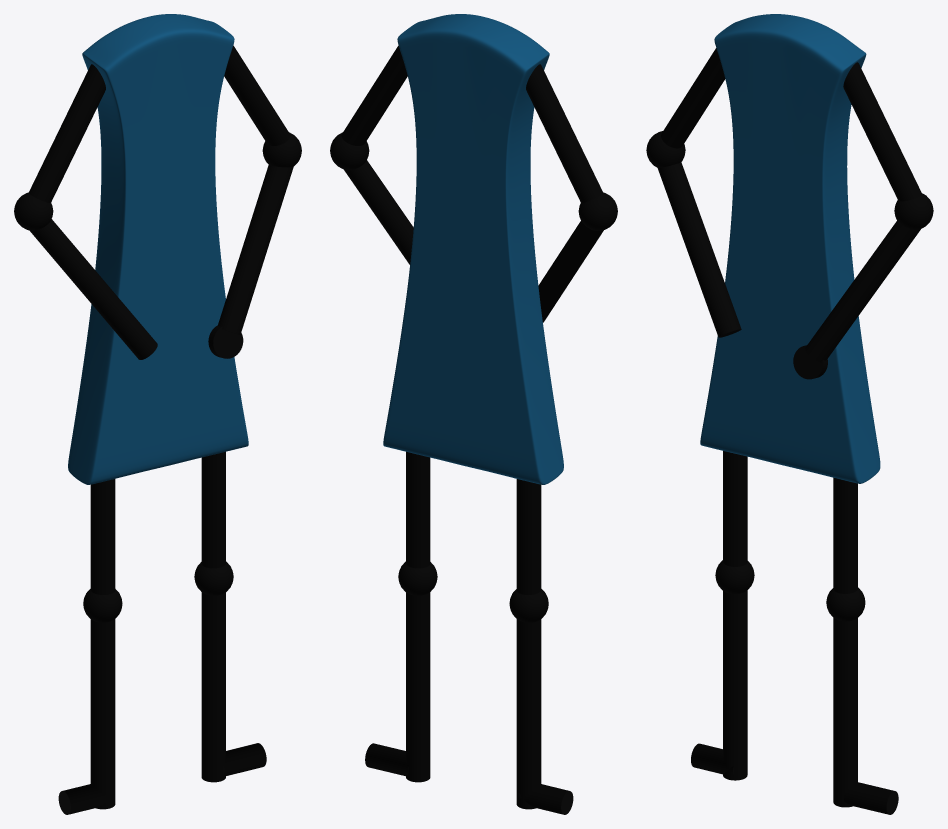
3 views of the same model, side by side, from view 1: azimuth 30°, elevation 25°; view 2: azimuth 150°, elevation 25°; view 3: azimuth 330°, elevation 25° (orthographic).
Parts seen in each view (by area): view 1: MaleBody, leftForeLeg, rightForeLeg, LeftForeArm, RightForeArm, RightUpperArm, rightUpperLeg, LeftUpperLeg, LeftUpperArm, rightUpperArmSphere, rightFoot, leftFoot (+4 smaller); view 2: MaleBody, leftForeLeg, rightForeLeg, RightUpperArm, rightUpperLeg, LeftUpperLeg, LeftUpperArm, LeftForeArm, RightForeArm, rightUpperArmSphere, rightFoot, leftFoot (+3 smaller); view 3: MaleBody, rightForeLeg, RightForeArm, leftForeLeg, LeftForeArm, LeftUpperArm, LeftUpperLeg, rightUpperLeg, RightUpperArm, leftFoot, LeftUpperArmSphere, leftUpperLegSphere (+4 smaller).
Part boxes in pixels (box(x1,y1,x2,y2)): MaleBody: box(68, 14, 248, 484); leftForeLeg: box(201, 592, 225, 782); rightForeLeg: box(90, 619, 115, 809); LeftForeArm: box(218, 165, 293, 335); RightForeArm: box(30, 219, 157, 359); RightUpperArm: box(28, 64, 105, 202); rightUpperLeg: box(90, 479, 115, 594); LeftUpperLeg: box(201, 451, 225, 568); LeftUpperArm: box(224, 45, 290, 145); rightUpperArmSphere: box(14, 192, 53, 230); rightFoot: box(58, 784, 113, 814); leftFoot: box(223, 743, 266, 775); MaleBody: box(383, 14, 563, 484); leftForeLeg: box(406, 592, 430, 782); rightForeLeg: box(516, 619, 541, 809); RightUpperArm: box(526, 64, 603, 202); rightUpperLeg: box(516, 479, 541, 594); LeftUpperLeg: box(406, 451, 430, 568); LeftUpperArm: box(341, 45, 407, 145); LeftForeArm: box(344, 160, 413, 264); RightForeArm: box(538, 221, 603, 322); rightUpperArmSphere: box(578, 192, 617, 230); rightFoot: box(518, 784, 573, 814); leftFoot: box(365, 743, 408, 776); MaleBody: box(700, 14, 880, 483); rightForeLeg: box(723, 590, 747, 780); RightForeArm: box(657, 162, 741, 337); leftForeLeg: box(833, 618, 857, 807); LeftForeArm: box(805, 221, 920, 361); LeftUpperArm: box(843, 62, 921, 201); LeftUpperLeg: box(833, 477, 857, 593); rightUpperLeg: box(723, 451, 747, 566); RightUpperArm: box(661, 48, 725, 148); leftFoot: box(844, 782, 898, 814); LeftUpperArmSphere: box(894, 193, 933, 229); leftUpperLegSphere: box(826, 587, 865, 621).
Bounding box in the file's own units: 133 × 345 × 35.4.
